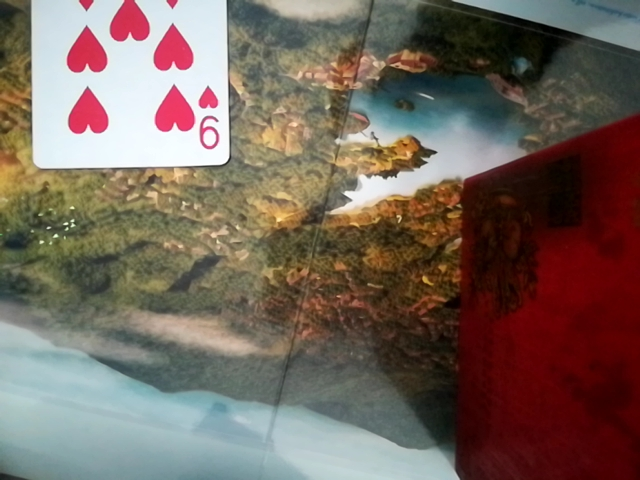hx 9: (18, 0, 226, 171)
